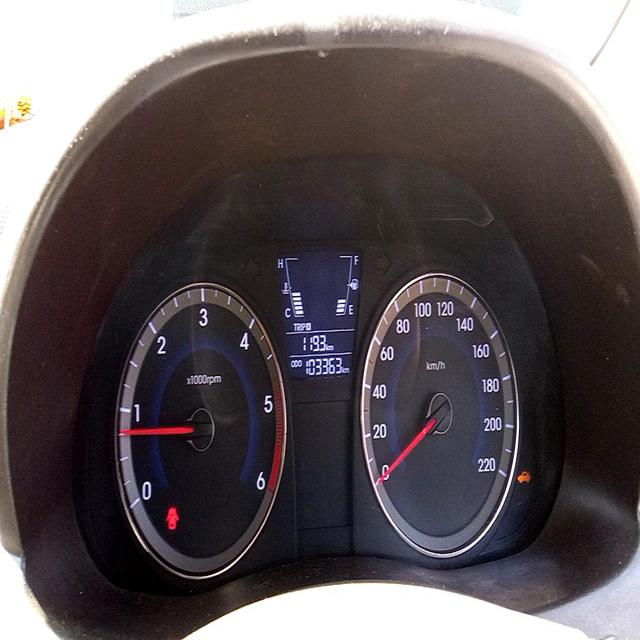odometer: (302, 354, 346, 379)
